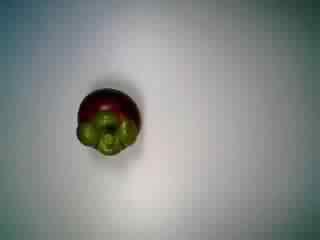mangosteen: (70, 83, 148, 159)
